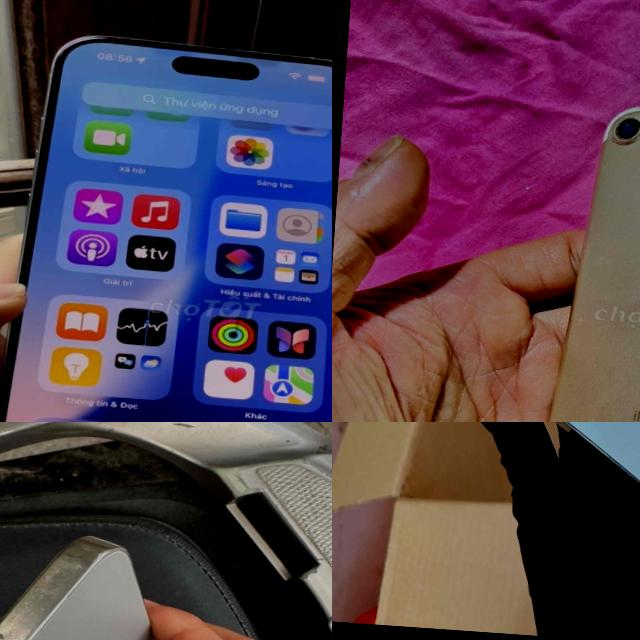gen_12_13: (432, 422, 640, 548)
gen_15: (0, 19, 332, 422), (0, 520, 190, 640)
gen_7_8: (517, 57, 640, 422)
scratch: (0, 547, 130, 640), (594, 105, 640, 147), (561, 413, 613, 422), (566, 312, 584, 326)
